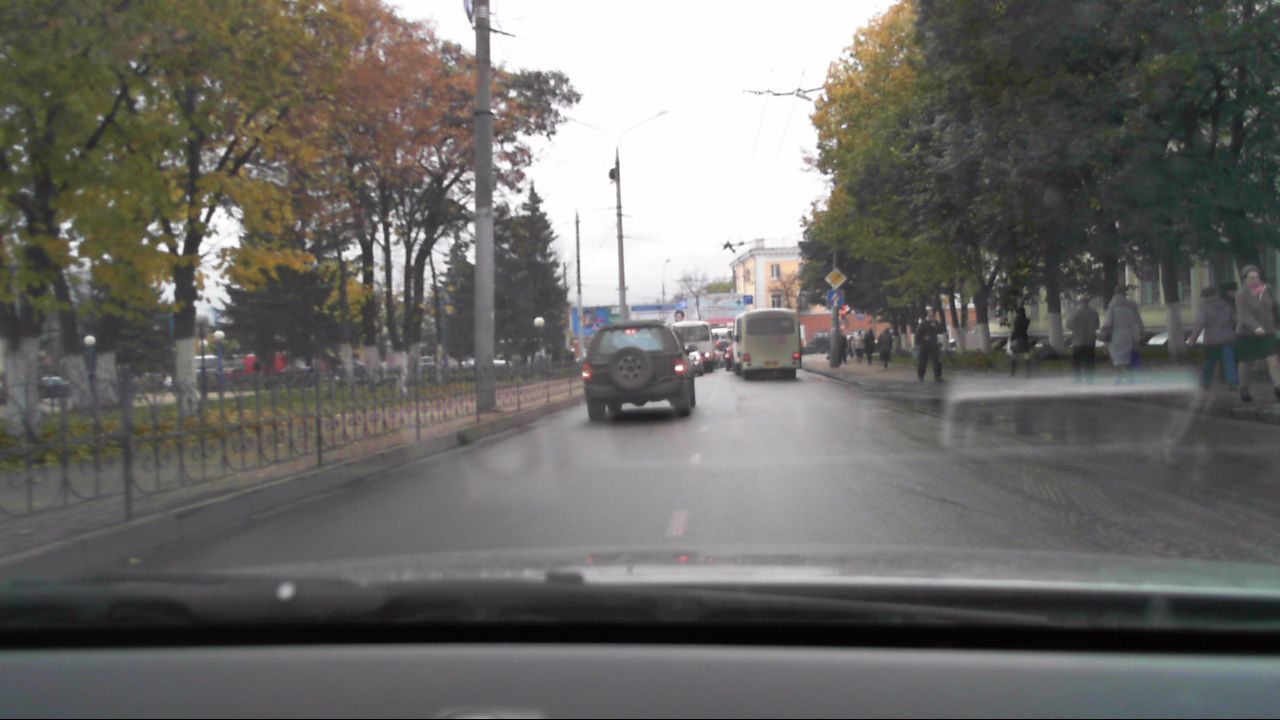main road: (824, 267, 848, 290)
